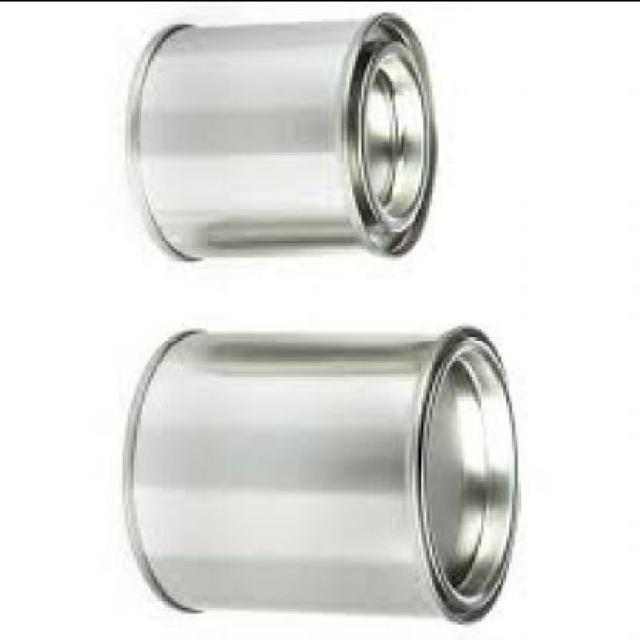METAL: (128, 330, 523, 625), (130, 15, 444, 264)
